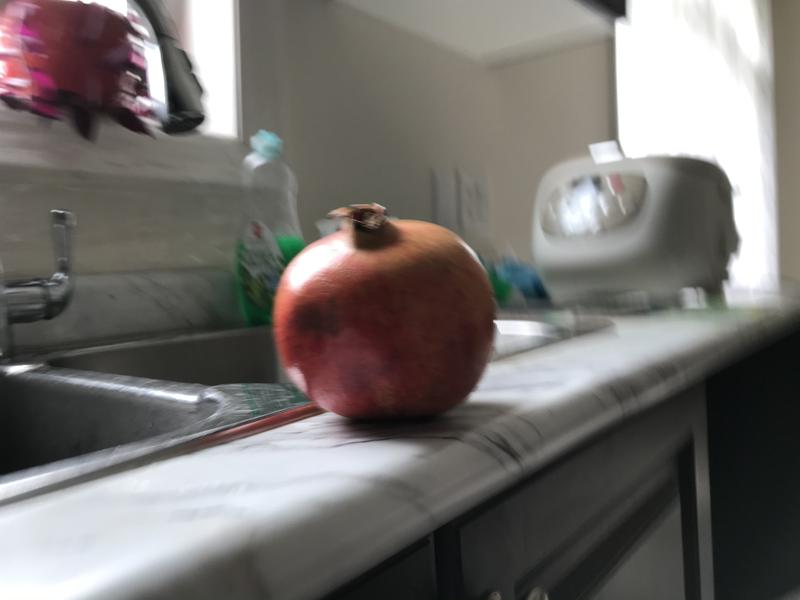pomegranate: (254, 192, 523, 448)
